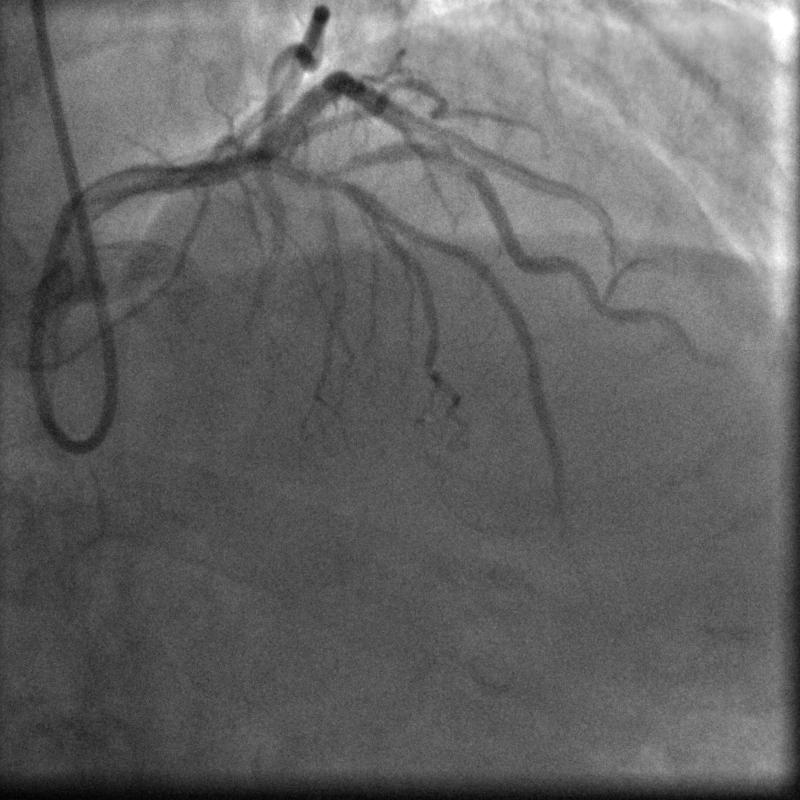Stenosis: (438, 141, 482, 178)
